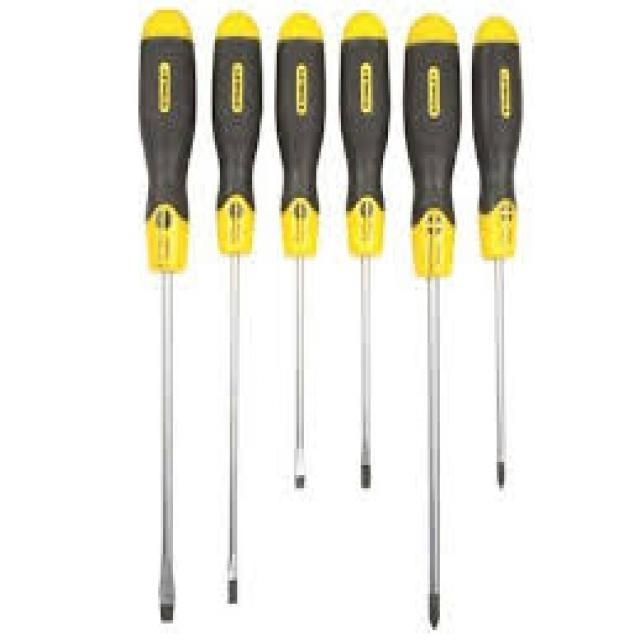screwdriver: (398, 12, 462, 636), (137, 3, 199, 627), (208, 8, 264, 612), (334, 8, 392, 493), (272, 6, 328, 498), (470, 5, 522, 503)
